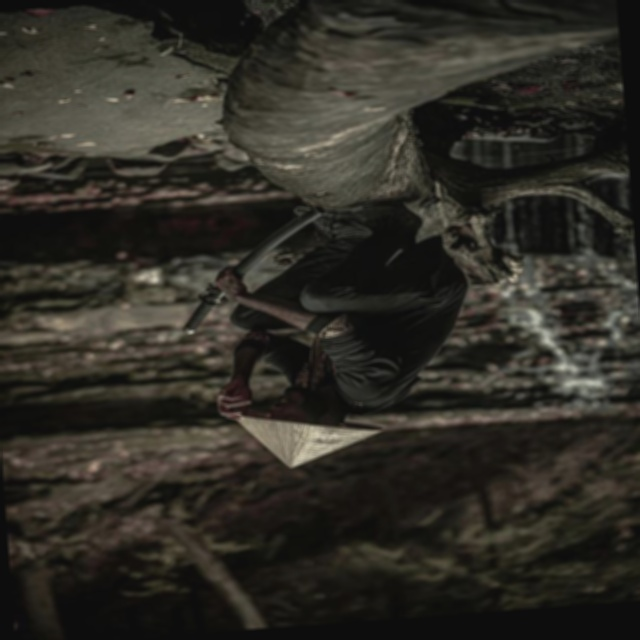Sharp-Object: (177, 198, 330, 345)
